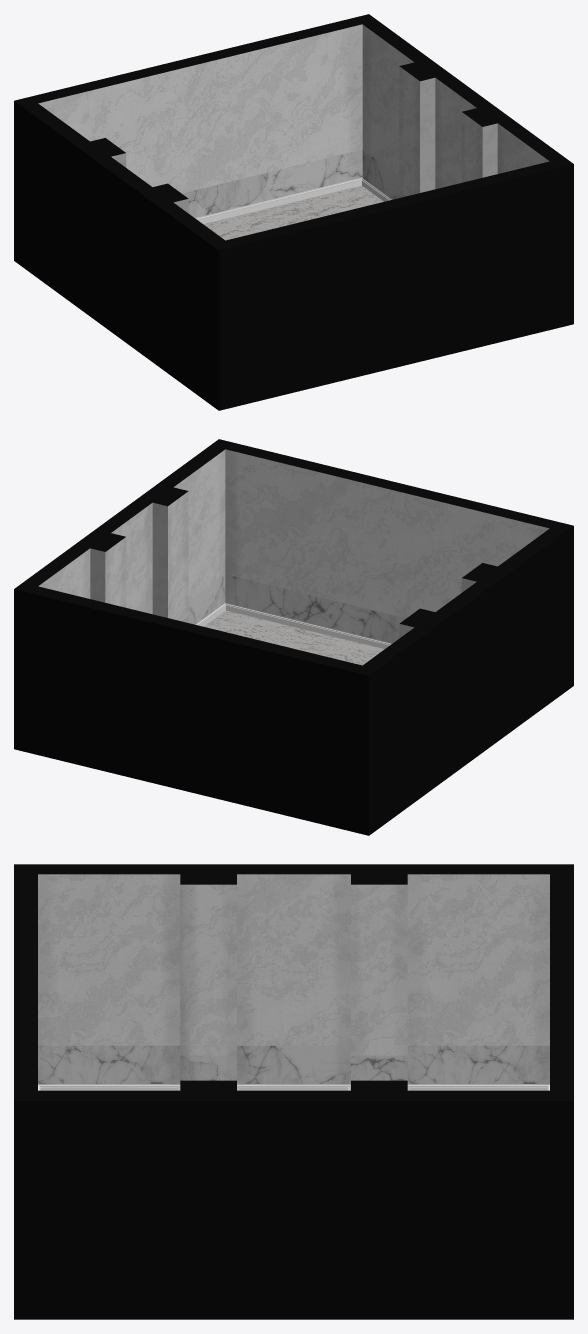
File: theme02_bg.fbx
3 views of the same model, one above another, from view 1: azimuth 30°, elevation 25°; view 2: azimuth 150°, elevation 25°; view 3: azimuth 270°, elevation 25° (orthographic). The views are drawn at different scales.
Visible parts, largest first — view 1: fixedbgshadow; view 2: fixedbgshadow; view 3: fixedbgshadow.
Boxes of the visible parts, x1=… form: fixedbgshadow: x1=14, y1=14, x2=573, y2=410; fixedbgshadow: x1=14, y1=439, x2=573, y2=835; fixedbgshadow: x1=14, y1=864, x2=573, y2=1319.
Size of the model in its own units: 1160 by 500 by 1160.
1 material, 1 textured.
